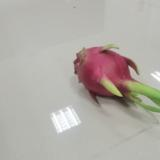pitaya: (73, 43, 160, 113)
